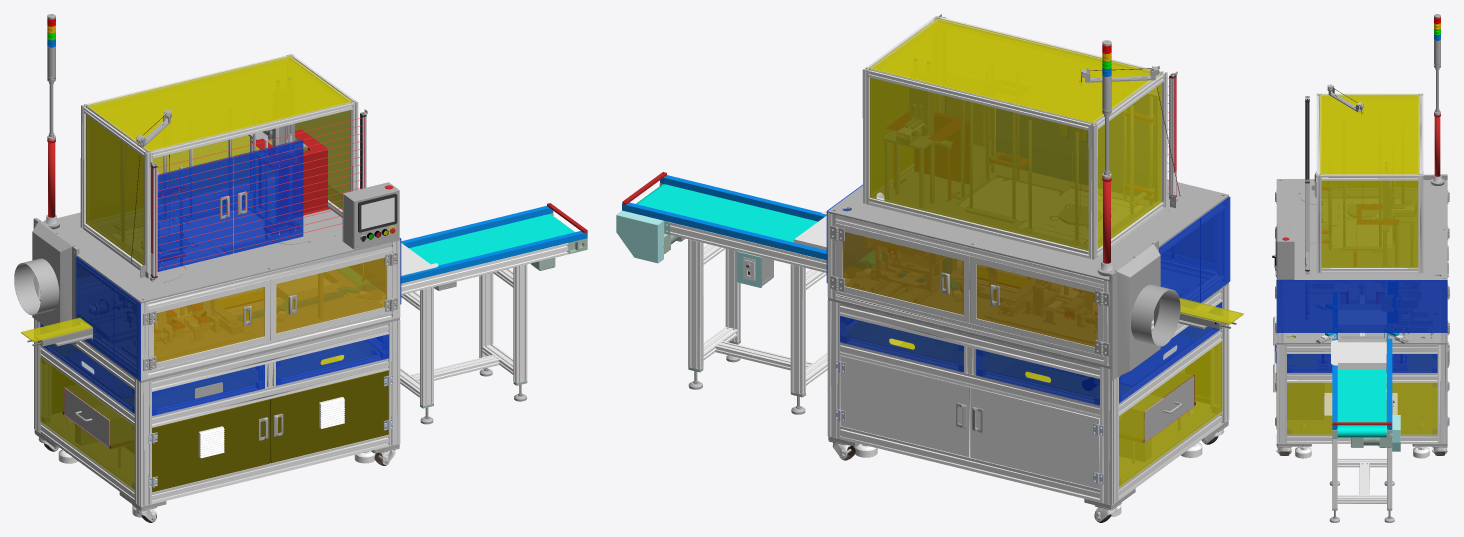
Rendered from industrial-machine.glb.
3 renders of one model, left to right at view 1: azimuth 30°, elevation 25°; view 2: azimuth 150°, elevation 25°; view 3: azimuth 270°, elevation 25°, orthographic. The views are drawn at different scales.
Visible parts, largest first — view 1: D-003_VER2_CPY1_CPY_CPY_v2_CPY1, 1700184089130, EMA021-BT8912-101010_CPY_MIR_CPY, Solid11_ver2_CPY1_CPY_CPY_v2_CPY.005, DOORKNOB-(BY183-3)_CPY_CPY_CPY1_CPY_CPY1_v2_CPY001.001, CAR-B009_CPY_MIR.001, CAR-B013_CPY_CPY, CAR-B001_v2_CPY, DF 3030 1703734055190, 1697597775731.003, CAR-B012_CPY001, BW40-14_BW40-14P002 (+6 smaller); view 2: D-003_VER2_CPY1_CPY_CPY_v2_CPY1, EMA021-BT8912-101010_CPY_MIR_CPY, 1700184089130, Solid11_ver2_CPY1_CPY_CPY_v2_CPY.005, DOORKNOB-(BY183-3)_CPY_CPY_CPY1_CPY_CPY1_v2_CPY001.001, CAR-B013_CPY_CPY, DF 3030 1703734055190, CAR-B001_v2_CPY, CAR-B012_CPY001, 1697597775731.003, STL040-_A114M, mb004 (+4 smaller); view 3: D-003_VER2_CPY1_CPY_CPY_v2_CPY1, CAR-B013_CPY_CPY, EMA021-BT8912-101010_CPY_MIR_CPY, CAR-B001_v2_CPY, 1700184089130, DF 3030 1703734055190, RO-B009_v2_MIR2_CPY, COMPOUND, hmi-b002_CPY_CPY1_CPY_v2_CPY, STL040-_A114M, BW40-14_BW40-14P002, CAR-B011_CPY1 (+4 smaller).
Part boxes in pixels (<box>): D-003_VER2_CPY1_CPY_CPY_v2_CPY1: <box>40,55,352,490</box>; 1700184089130: <box>34,319,400,506</box>; EMA021-BT8912-101010_CPY_MIR_CPY: <box>400,203,587,424</box>; Solid11_ver2_CPY1_CPY_CPY_v2_CPY.005: <box>63,370,392,492</box>; DOORKNOB-(BY183-3)_CPY_CPY_CPY1_CPY_CPY1_v2_CPY001.001: <box>143,250,397,370</box>; CAR-B009_CPY_MIR.001: <box>157,127,303,271</box>; CAR-B013_CPY_CPY: <box>40,238,401,415</box>; CAR-B001_v2_CPY: <box>42,123,399,303</box>; DF 3030 1703734055190: <box>80,53,358,275</box>; 1697597775731.003: <box>38,240,400,380</box>; CAR-B012_CPY001: <box>14,217,79,346</box>; BW40-14_BW40-14P002: <box>150,109,367,281</box>; D-003_VER2_CPY1_CPY_CPY_v2_CPY1: <box>869,18,1222,487</box>; EMA021-BT8912-101010_CPY_MIR_CPY: <box>616,172,827,414</box>; 1700184089130: <box>827,284,1229,505</box>; Solid11_ver2_CPY1_CPY_CPY_v2_CPY.005: <box>835,355,1194,489</box>; DOORKNOB-(BY183-3)_CPY_CPY_CPY1_CPY_CPY1_v2_CPY001.001: <box>830,223,1109,356</box>; CAR-B013_CPY_CPY: <box>826,184,1230,405</box>; DF 3030 1703734055190: <box>862,16,1167,259</box>; CAR-B001_v2_CPY: <box>828,180,1228,282</box>; CAR-B012_CPY001: <box>1109,240,1180,380</box>; 1697597775731.003: <box>827,213,1180,366</box>; STL040-_A114M: <box>1097,40,1115,276</box>; mb004: <box>1095,376,1195,443</box>; D-003_VER2_CPY1_CPY_CPY_v2_CPY1: <box>1287,94,1437,434</box>; CAR-B013_CPY_CPY: <box>1276,280,1447,373</box>; EMA021-BT8912-101010_CPY_MIR_CPY: <box>1329,338,1400,522</box>; CAR-B001_v2_CPY: <box>1276,179,1447,279</box>; 1700184089130: <box>1277,344,1447,443</box>; DF 3030 1703734055190: <box>1316,93,1423,273</box>; RO-B009_v2_MIR2_CPY: <box>1276,275,1447,344</box>; COMPOUND: <box>1331,340,1386,369</box>; hmi-b002_CPY_CPY1_CPY_v2_CPY: <box>1272,223,1294,279</box>; STL040-_A114M: <box>1430,14,1444,185</box>; BW40-14_BW40-14P002: <box>1305,96,1309,274</box>; CAR-B011_CPY1: <box>1295,392,1429,458</box>.
Bounding box in the file's own units: 2.93 × 2.26 × 1.04.
